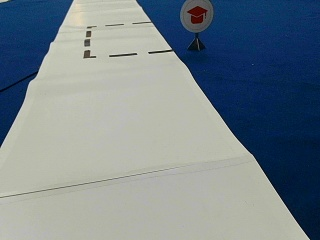school: (179, 1, 213, 32)
